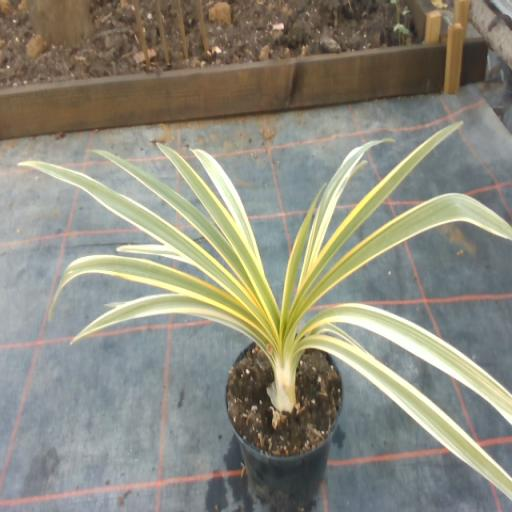Agapanthus-praecox: (20, 161, 271, 333), (298, 336, 511, 499), (290, 123, 461, 317), (290, 193, 511, 325), (298, 303, 511, 423), (158, 144, 278, 330), (96, 151, 249, 283), (49, 255, 266, 333), (299, 141, 382, 281), (71, 293, 266, 348), (193, 149, 262, 267), (280, 192, 319, 336), (118, 245, 192, 263), (319, 325, 365, 351)
